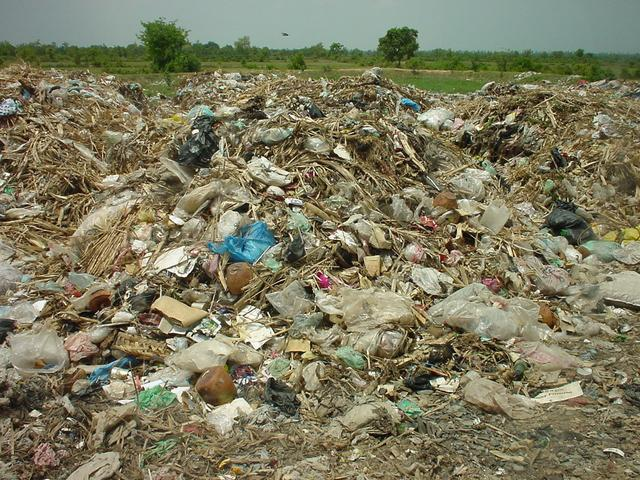garbage: (13, 100, 628, 446)
